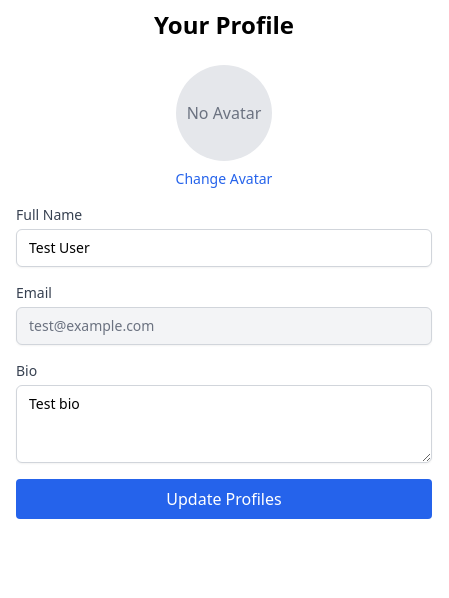
Test: Profile Page › handles profile update successfully
Replace the text in the field labelled "Full Name" with "Updated Name". click: (224, 248)
box: [16,229,432,267]
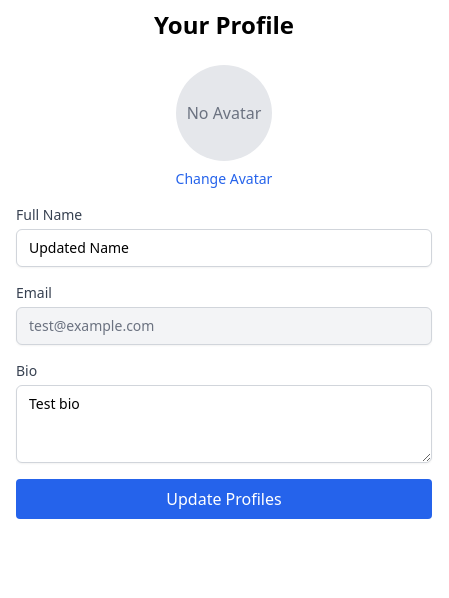
Replace the text in the text box labelled "Bio" with "Updated bio". click: (224, 424)
box: [16,385,432,463]
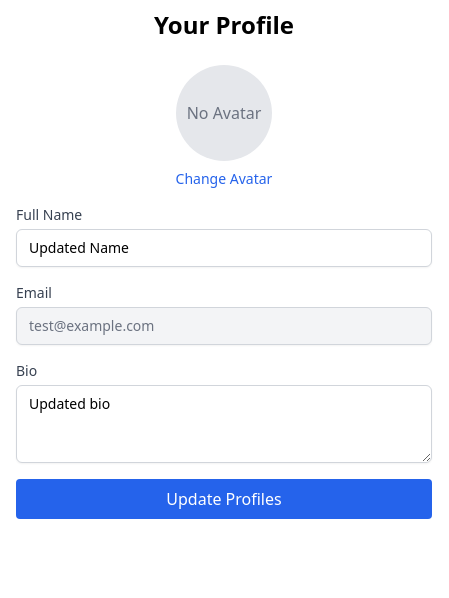
Click the button "Update Profiles". click: click(224, 499)
box: [16,479,432,519]
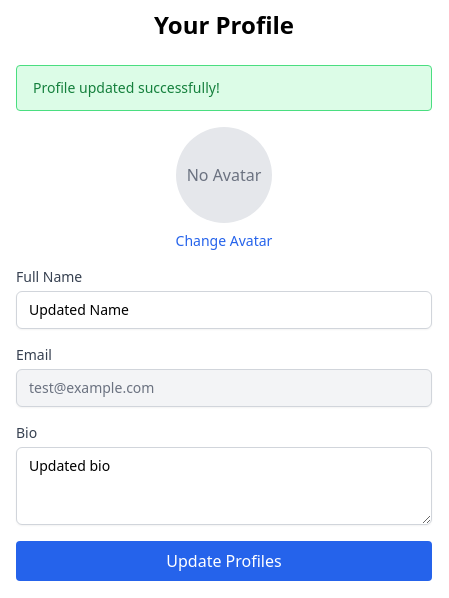
Result: the text "Profile updated successfully!" is shown at [16,65,432,111]
